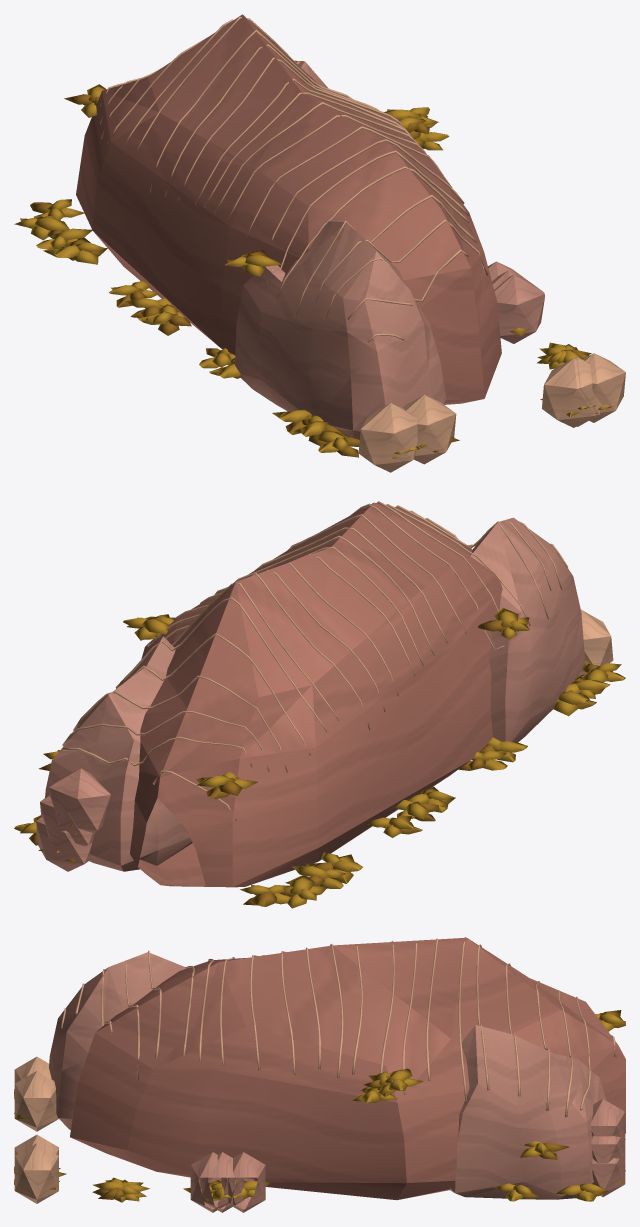
File: PilotRidgeN_3.fbx
3 renders of one model, top to bottom at view 1: azimuth 30°, elevation 25°; view 2: azimuth 150°, elevation 25°; view 3: azimuth 270°, elevation 25°, orthographic. The views are drawn at different scales.
Parts seen in each view (by area): view 1: PilotRidgeN_3__Geometry; view 2: PilotRidgeN_3__Geometry; view 3: PilotRidgeN_3__Geometry.
Boxes of the visible parts, box(x1,y1,x2,y2) form: PilotRidgeN_3__Geometry: box(14, 14, 625, 472); PilotRidgeN_3__Geometry: box(14, 501, 625, 908); PilotRidgeN_3__Geometry: box(14, 937, 625, 1212).
Bounding box in the file's own units: 2 × 1.6 × 4.
